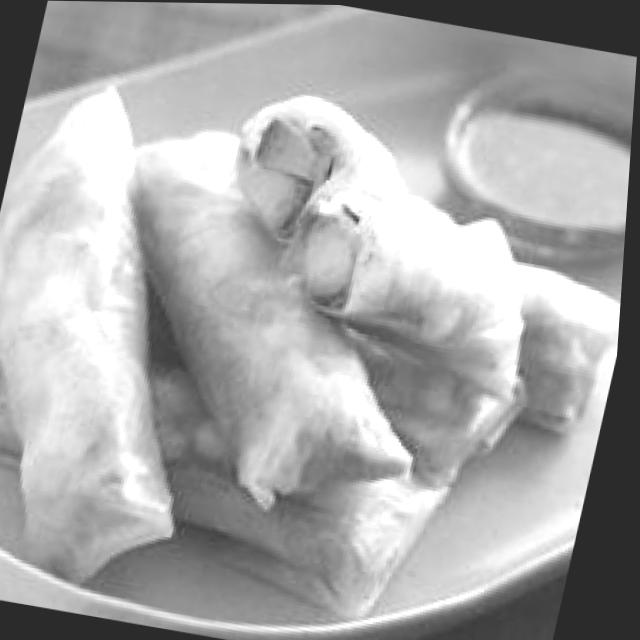鸡蛋料理: (0, 43, 638, 640)
